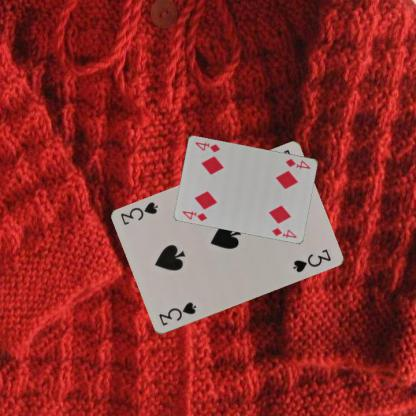3s: (156, 299, 198, 328)
4d: (283, 156, 312, 170), (180, 208, 209, 222)
